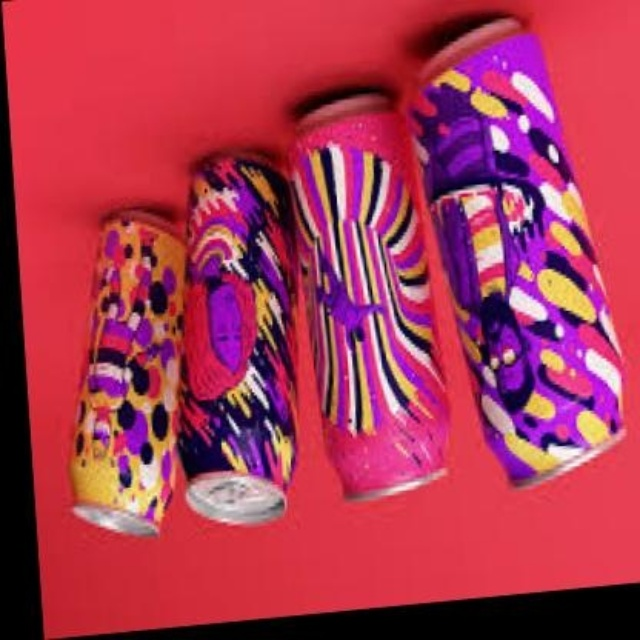trash: (409, 17, 622, 485), (292, 88, 446, 497), (178, 154, 294, 523), (71, 209, 183, 535)
